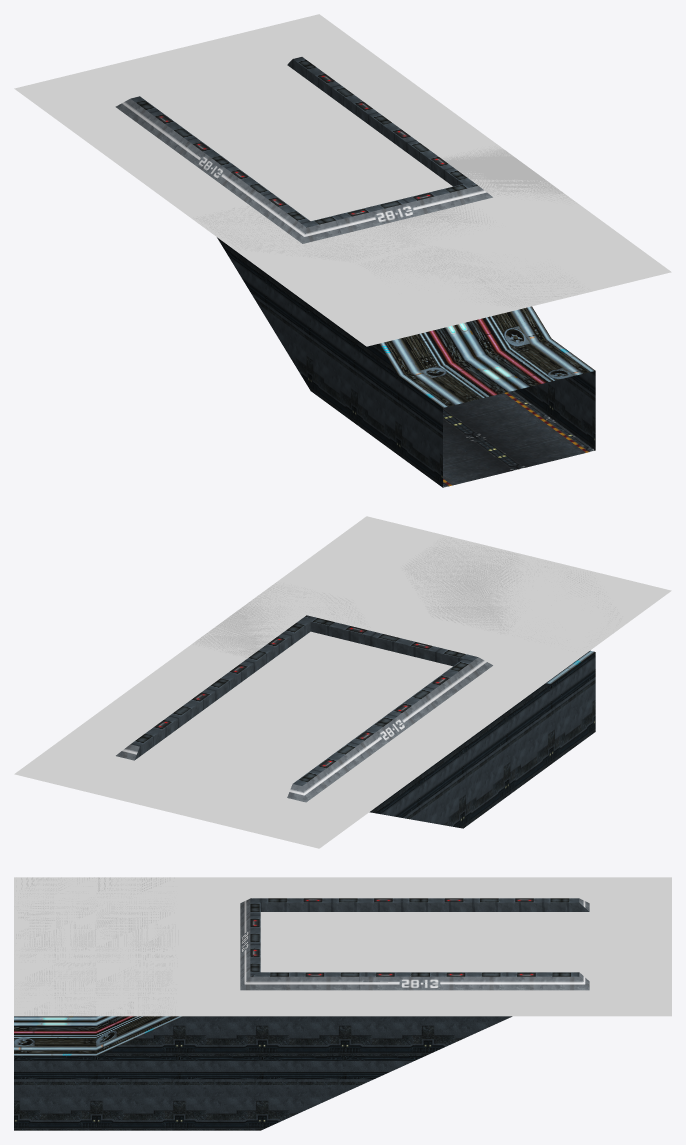
File: pbatun03.FBX
3 views of the same model, one above another, from view 1: azimuth 30°, elevation 25°; view 2: azimuth 150°, elevation 25°; view 3: azimuth 270°, elevation 25° (orthographic). The views are drawn at different scales.
Visible parts, largest first — view 1: terrain__h, pbatun03, frame, terrain; view 2: terrain__h, pbatun03, frame, terrain; view 3: terrain__h, pbatun03, frame, terrain.
Part boxes in pixels (left/top/right/bottom): terrain__h: left=14, top=14, right=671, bottom=346; pbatun03: left=217, top=237, right=595, bottom=487; frame: left=115, top=57, right=492, bottom=243; terrain: left=193, top=146, right=588, bottom=307; terrain__h: left=14, top=516, right=671, bottom=848; pbatun03: left=369, top=650, right=595, bottom=828; frame: left=116, top=615, right=492, bottom=802; terrain: left=193, top=537, right=622, bottom=657; terrain__h: left=14, top=877, right=671, bottom=1016; pbatun03: left=14, top=1016, right=512, bottom=1130; frame: left=240, top=898, right=589, bottom=990; terrain: left=14, top=877, right=178, bottom=1016.
Size of what is drawn, in the model's own units: 32 by 64 by 17.
